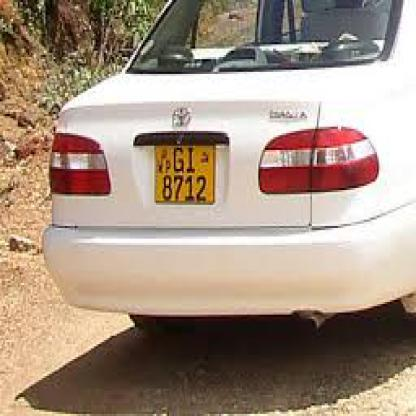car: (44, 2, 414, 330)
